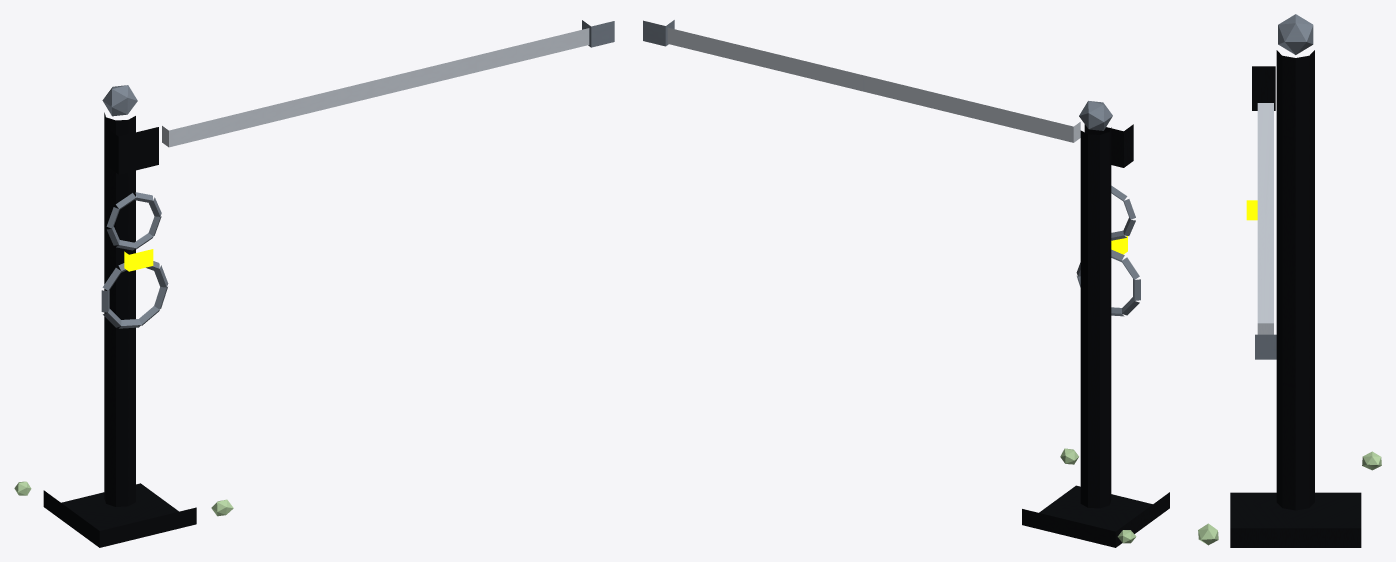
File: tt_foyer_stanchion.glb
3 renders of one model, left to right at view 1: azimuth 30°, elevation 25°; view 2: azimuth 150°, elevation 25°; view 3: azimuth 270°, elevation 25°, orthographic. The views are drawn at different scales.
Parts seen in each view (by area): view 1: Post, Belt, Cable_Rings, Post_Cap; view 2: Post, Belt, Cable_Rings, Post_Cap; view 3: Post, Belt, Post_Cap, Seated_Moss, Belt_Tip, River_LED.
Boxes of the visible parts, x1,y1,x2,y2 form: Post: (43,112,196,547); Belt: (162,28,589,147); Cable_Rings: (101,192,168,328); Post_Cap: (102,85,137,116); Post: (1022,124,1169,547); Belt: (667,27,1080,142); Cable_Rings: (1076,185,1140,316); Post_Cap: (1079,101,1112,130); Post: (1230,50,1361,547); Belt: (1257,103,1273,334); Post_Cap: (1278,14,1313,54); Seated_Moss: (1198,451,1381,545); Belt_Tip: (1255,334,1276,359); River_LED: (1246,200,1257,220).
Size of what is drawn, in the model's own units: 1.36 by 1.01 by 0.3365.
5 materials, 3 textured.
